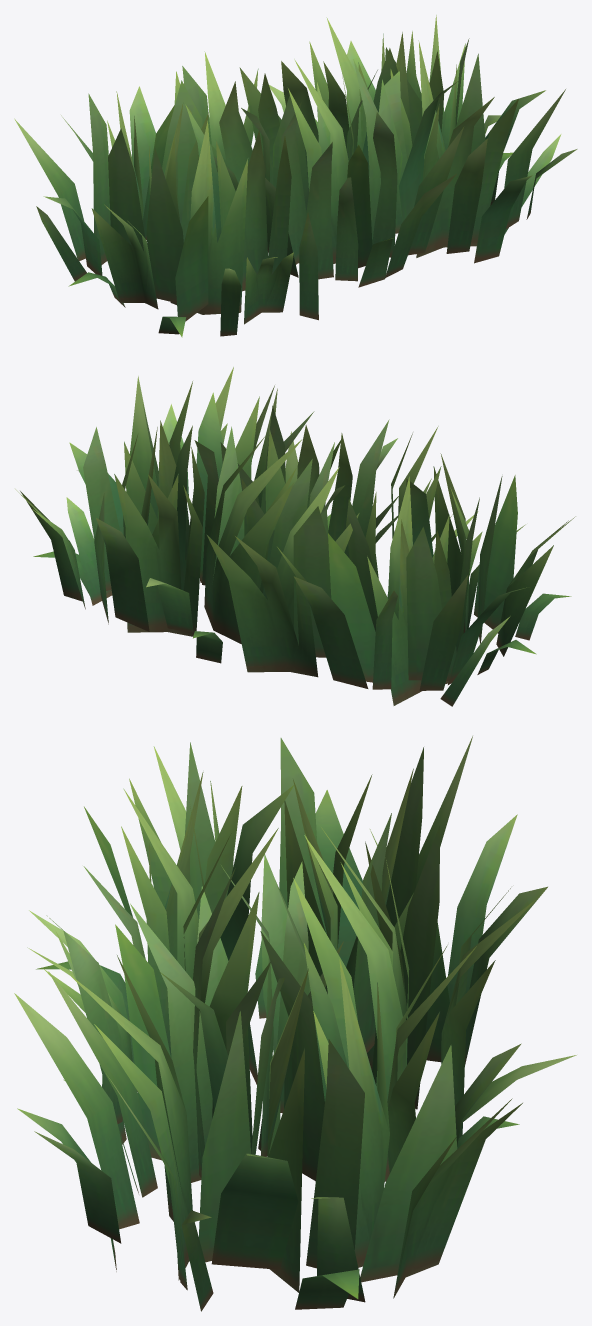
Rendered from pref_sm_beach_techgrass_alpha_yellow02_lv1.fbx.
The picture shows the model from 3 angles, top to bottom: view 1: azimuth 30°, elevation 25°; view 2: azimuth 150°, elevation 25°; view 3: azimuth 270°, elevation 25°; orthographic projection. The views are drawn at different scales.
Parts seen in each view (by area): view 1: pref_sm_beach_techgrass_alpha_yellow02_lv1; view 2: pref_sm_beach_techgrass_alpha_yellow02_lv1; view 3: pref_sm_beach_techgrass_alpha_yellow02_lv1.
Boxes of the visible parts, x1,y1,x2,y2 form: pref_sm_beach_techgrass_alpha_yellow02_lv1: [14, 15, 577, 337]; pref_sm_beach_techgrass_alpha_yellow02_lv1: [15, 367, 575, 706]; pref_sm_beach_techgrass_alpha_yellow02_lv1: [14, 736, 576, 1311].
Size of the model in its own units: 4.65 by 2.03 by 2.91.
